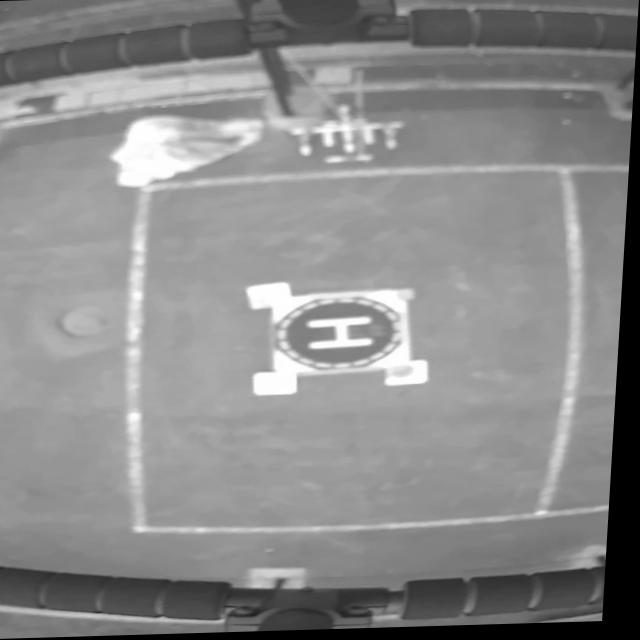Helipad: (309, 318, 379, 351)
